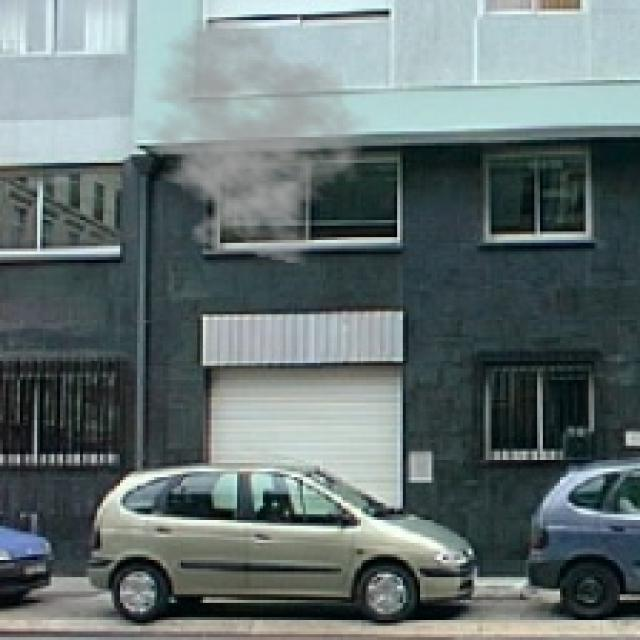Smoke: (126, 14, 372, 266)
